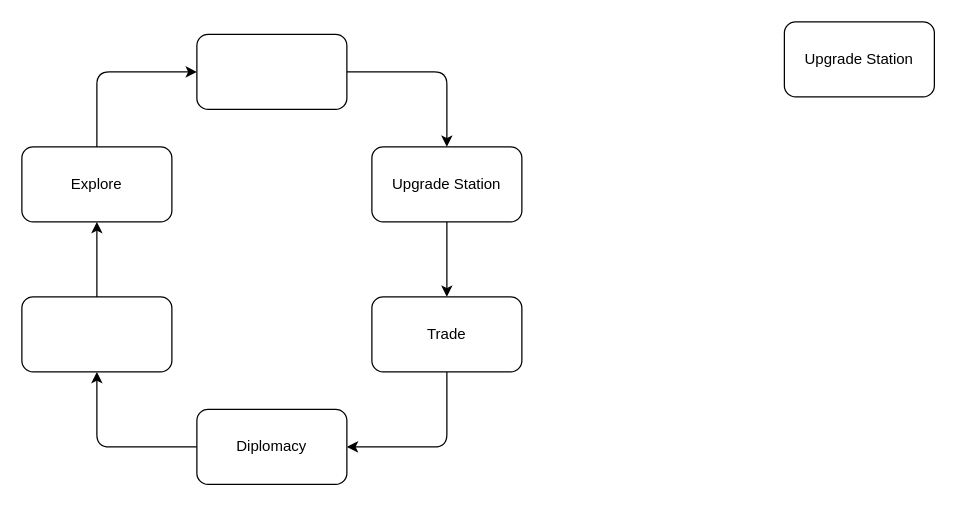
Some shapes in this 956 by 506 pixel diagram are drawn without their labels. Each missing label, with the centre of its shape:
"Get Resources" goes at pixel 271 71.
"GO TO WAAAAR" goes at pixel 96 334.
